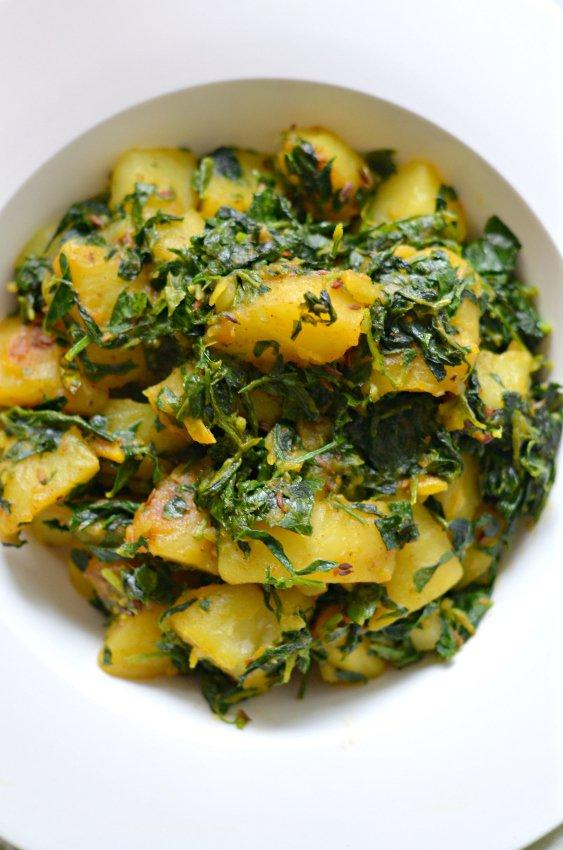Aloo Methi: (0, 110, 563, 737)
